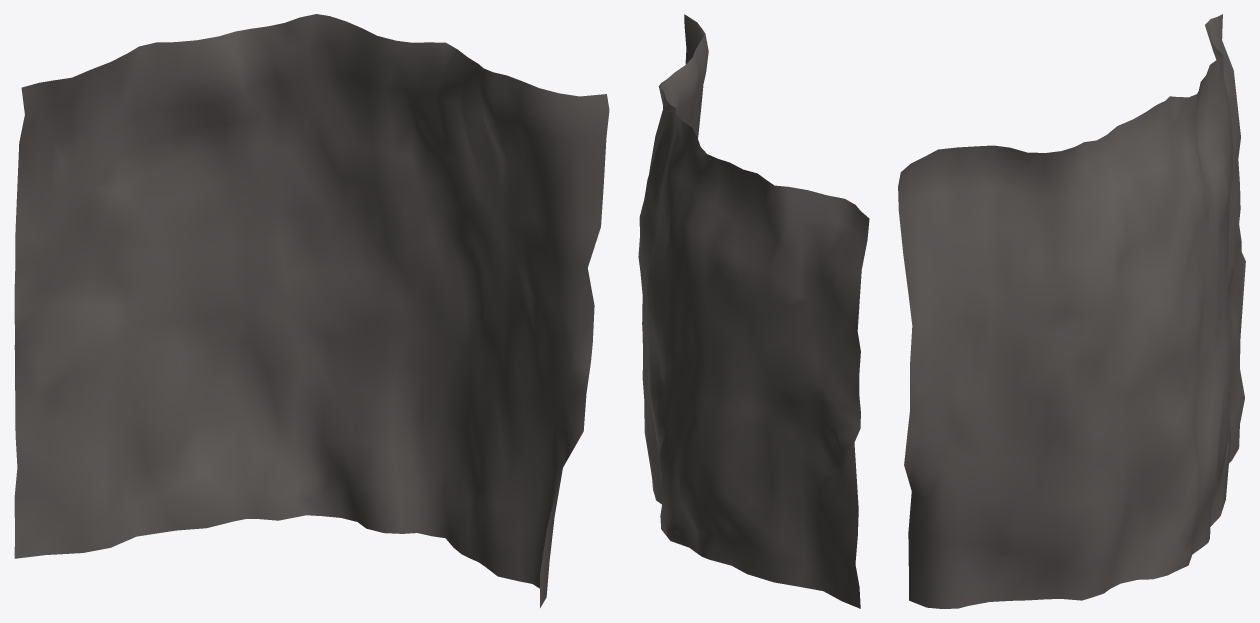
Rendered from SM_ENV_KNFRST_Wall_Ac_COL.FBX.
3 renders of one model, left to right at view 1: azimuth 30°, elevation 25°; view 2: azimuth 150°, elevation 25°; view 3: azimuth 270°, elevation 25°, orthographic. The views are drawn at different scales.
Parts seen in each view (by area): view 1: SM_ENV_KNFRST_Wall_Ac_COL; view 2: SM_ENV_KNFRST_Wall_Ac_COL; view 3: SM_ENV_KNFRST_Wall_Ac_COL.
Part boxes in pixels (x1,y1,x2,y2): SM_ENV_KNFRST_Wall_Ac_COL: (14, 14, 609, 607); SM_ENV_KNFRST_Wall_Ac_COL: (638, 14, 869, 608); SM_ENV_KNFRST_Wall_Ac_COL: (898, 14, 1245, 608).
Size of the model in its own units: 3153 by 3778 by 2564.
